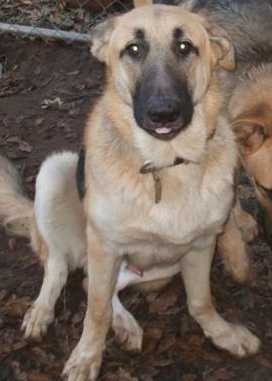dog: (47, 15, 253, 345)
